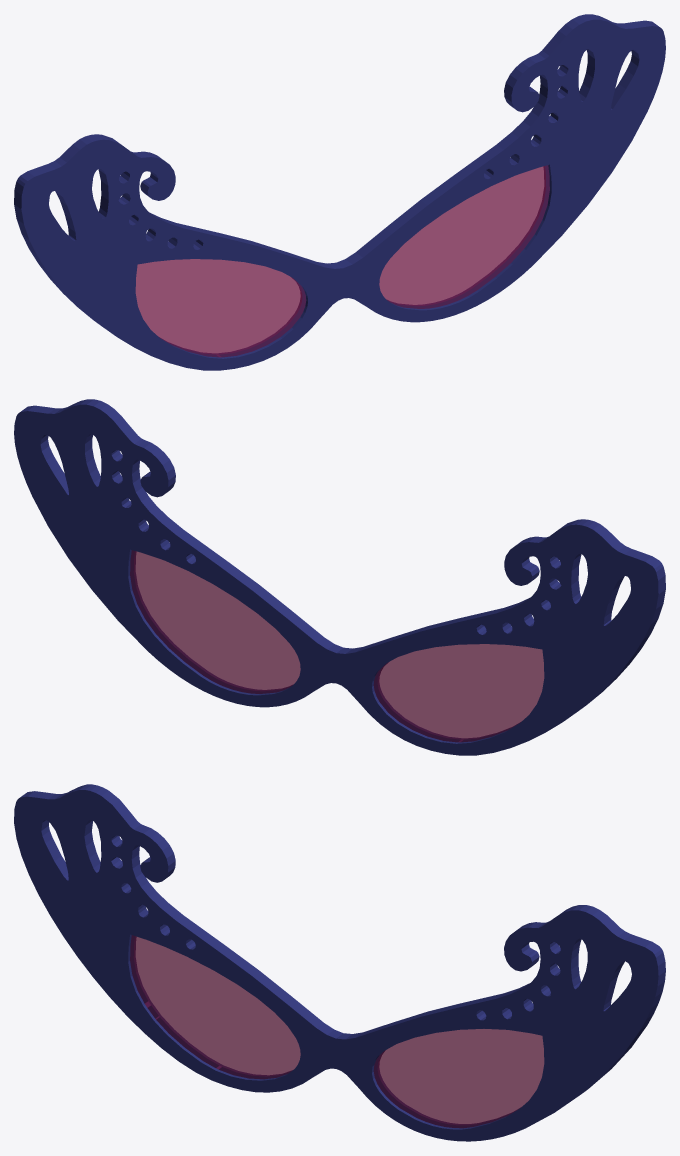
Rendered from asset.glb.
3 renders of one model, top to bottom at view 1: azimuth 30°, elevation 25°; view 2: azimuth 150°, elevation 25°; view 3: azimuth 330°, elevation 25°, orthographic.
Visible parts, largest first — view 1: Asset3DLoader.sceneRoot; view 2: Asset3DLoader.sceneRoot; view 3: Asset3DLoader.sceneRoot.
Part boxes in pixels (x1,y1,x2,y2): Asset3DLoader.sceneRoot: (14, 14, 665, 370); Asset3DLoader.sceneRoot: (14, 399, 665, 755); Asset3DLoader.sceneRoot: (14, 784, 665, 1141).
Bounding box in the file's own units: 174 × 67.68 × 3.48.
